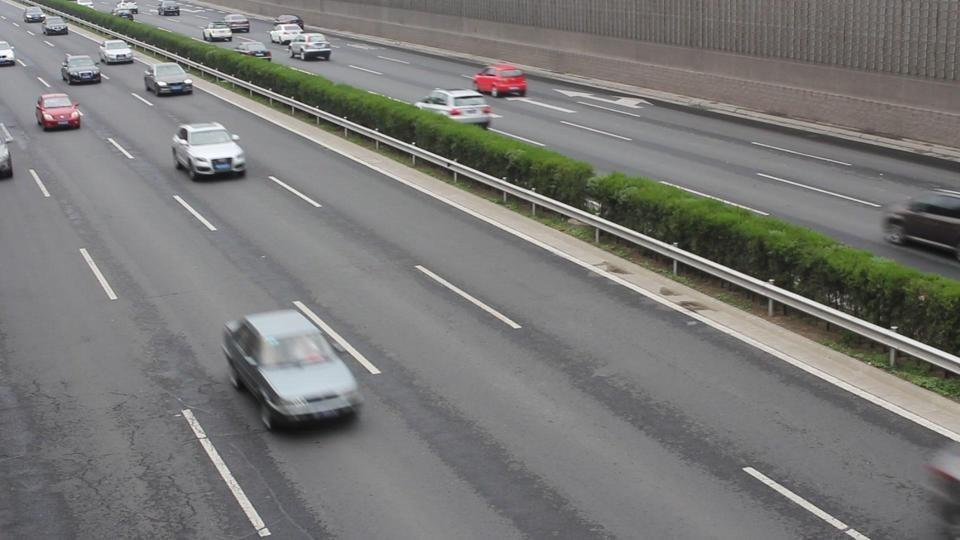car: (220, 305, 363, 431), (880, 190, 960, 260), (171, 121, 247, 181), (413, 87, 498, 129), (471, 61, 528, 98), (34, 92, 84, 131), (142, 61, 193, 97), (59, 54, 103, 84), (288, 32, 332, 61), (96, 39, 134, 65), (0, 122, 15, 180), (0, 41, 17, 67)
